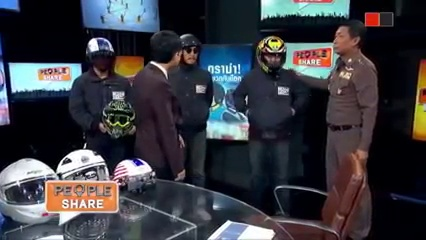helmet: (1, 155, 45, 223), (55, 146, 108, 178), (99, 94, 134, 139), (110, 153, 156, 183), (253, 35, 286, 76), (83, 35, 118, 71), (180, 30, 200, 68)
